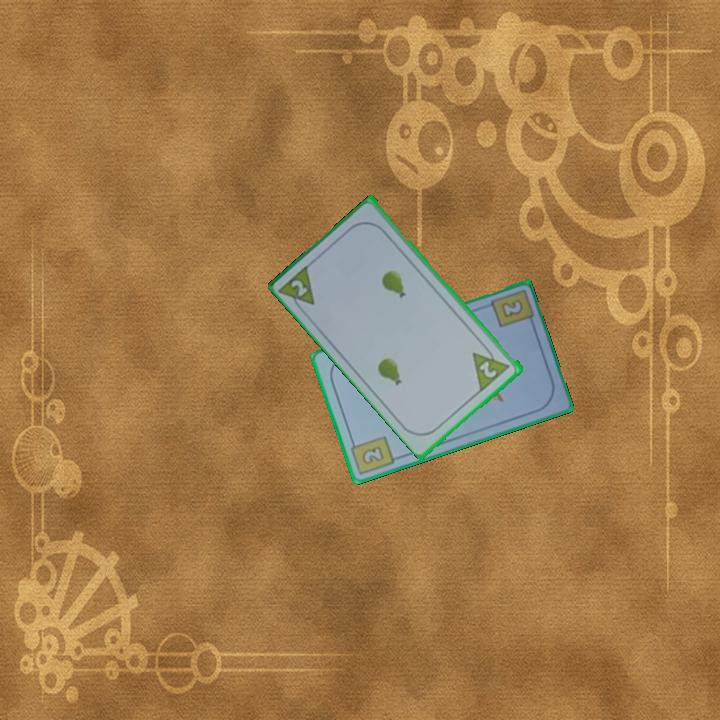2b: (347, 432, 397, 477), (497, 296, 526, 321)
2p: (469, 340, 513, 394), (287, 276, 311, 300)
